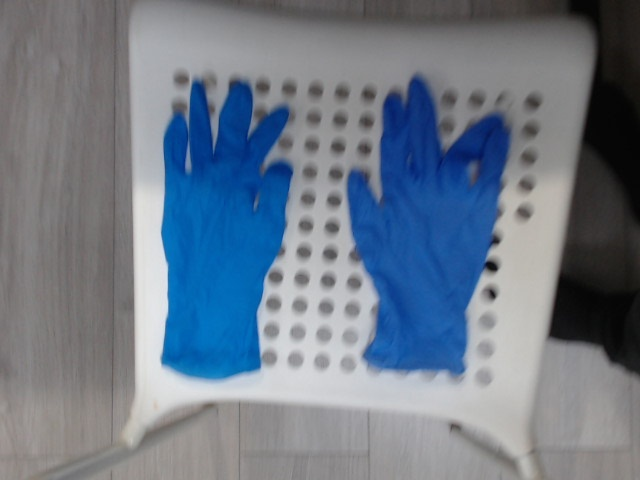medical_glove: (349, 76, 509, 370), (159, 84, 291, 379)
